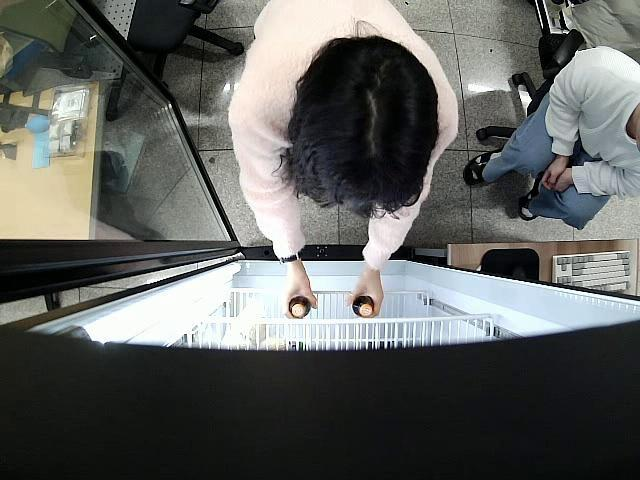17_vita500: (287, 296, 311, 320), (351, 295, 375, 317)
